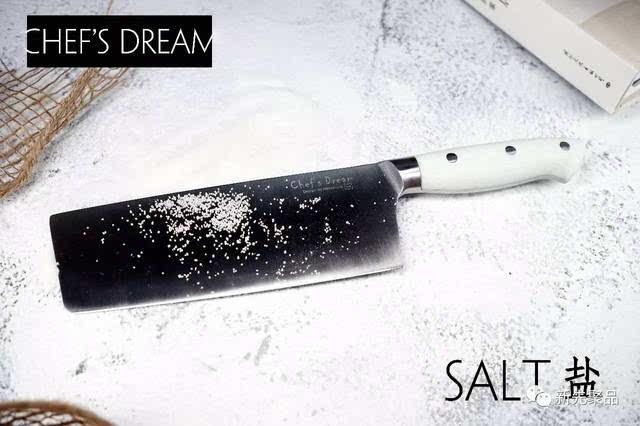knief: (49, 120, 585, 323)
